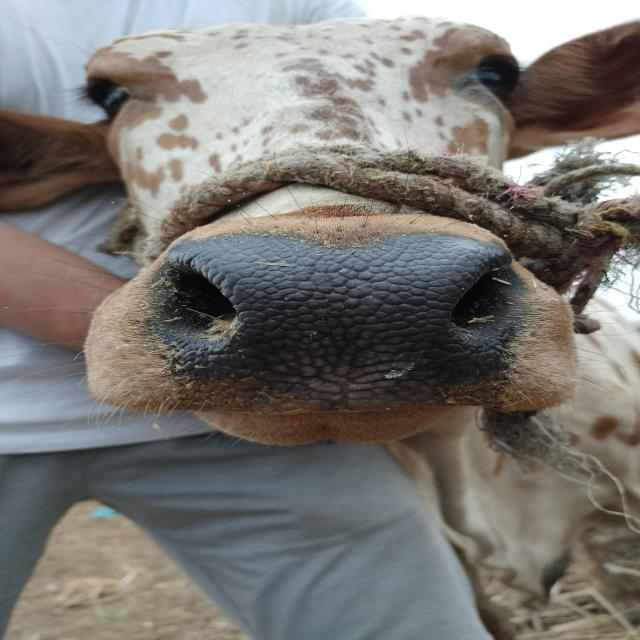muzzles: (146, 226, 542, 417)
